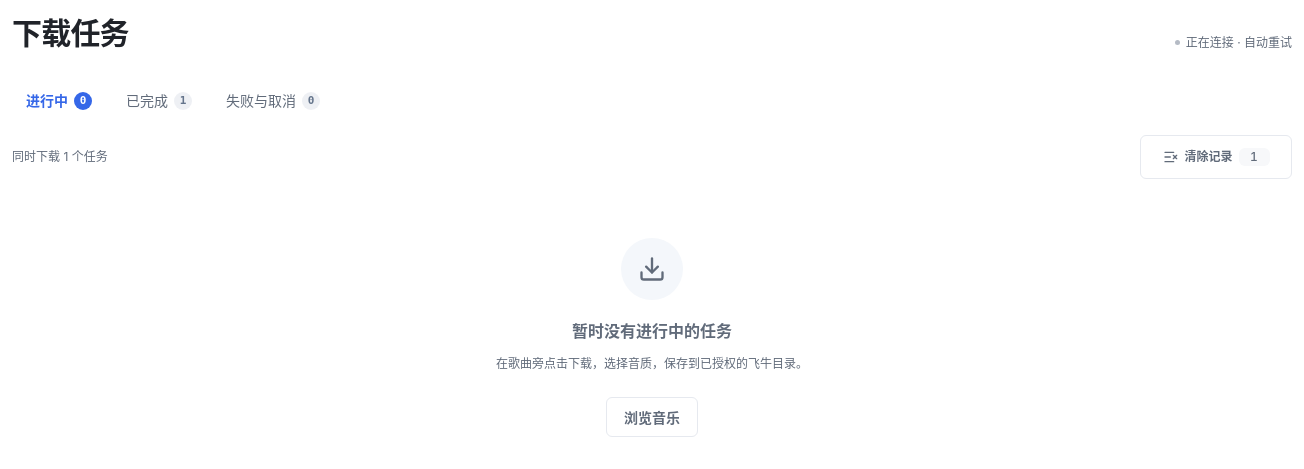
Scenario: v18 下载完成信息收敛 › 完成卡片保留真实状态与文件格式，长技术 warning 默认收起且可展开/收回
This screenshot has width=1304, height=469.
Click the tab "已完成 1" at (159, 100), box [112,82,206,118]
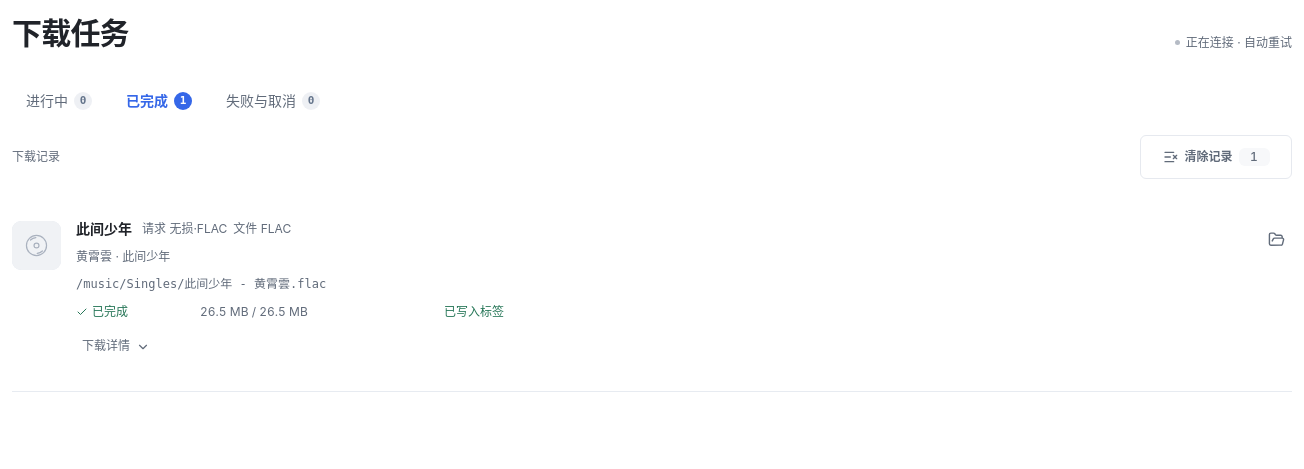
Check: the text "此间少年" is shown, box [76,218,132,238]
Check: the text "请求 无损·FLAC" is shown, box [142,219,227,237]
Check: the text "文件 FLAC" is shown, box [233,219,299,237]
Click the heading "下载详情" at (116, 346), box [82,338,150,353]
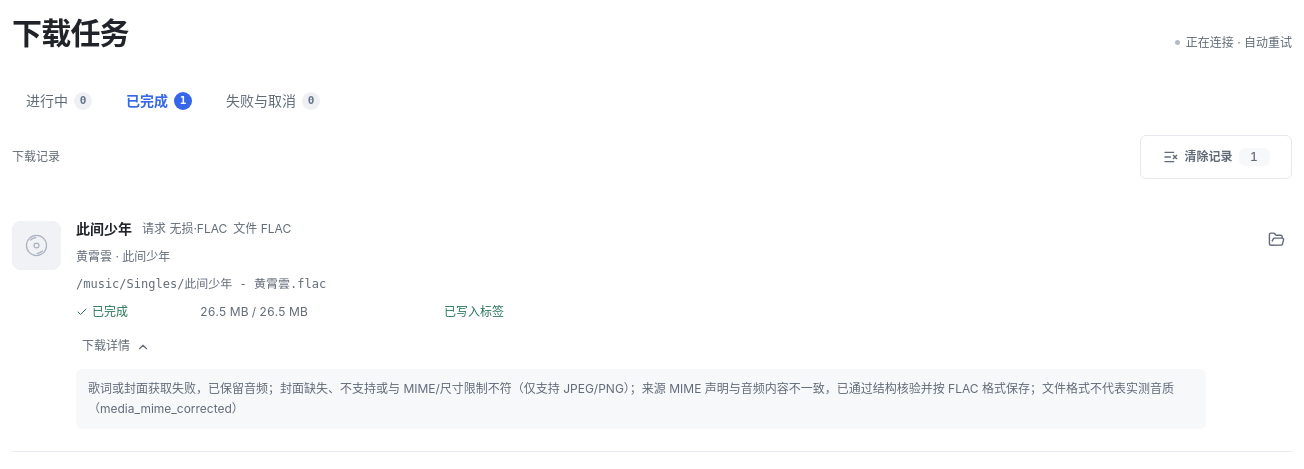
Check: the text "歌词或封面获取失败，已保留音频；封面缺失、不支持或与 MIME/尺寸限制不符（仅支持 JPEG/PNG）；来源 MIME 声明与音频内容不一致，已通过结构核验并按 FLAC 格式保存；文件格式不代表实测音质（media_mime_corre" is shown, box [88,380,1174,416]
Click the heading "下载详情" at (116, 346), box [82,338,150,353]
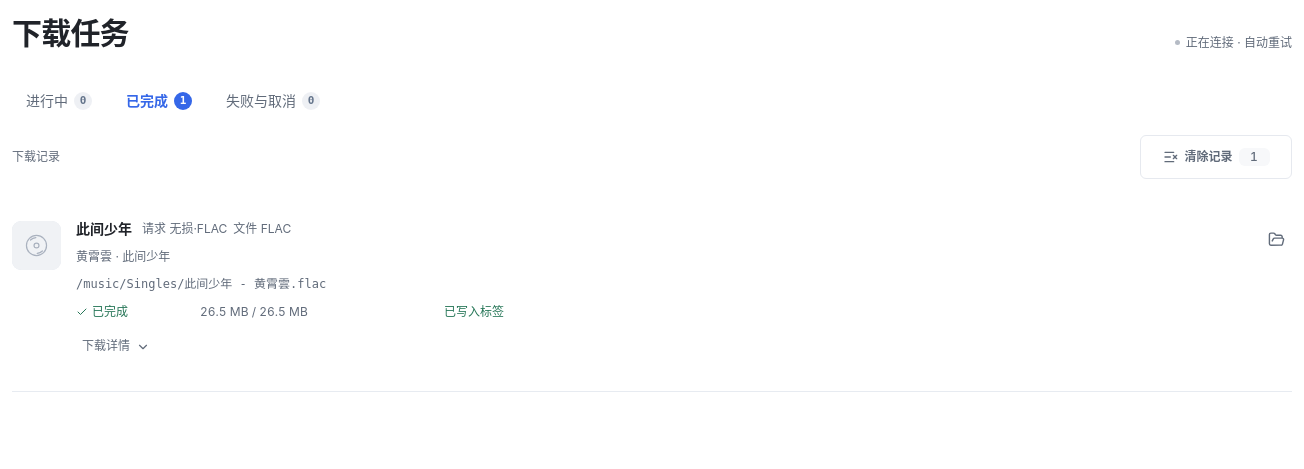
Check: the text "歌词或封面获取失败，已保留音频；封面缺失、不支持或与 MIME/尺寸限制不符（仅支持 JPEG/PNG）；来源 MIME 声明与音频内容不一致，已通过结构核验并按 FLAC 格式保存；文件格式不代表实测音质（media_mime_corre" is gone
